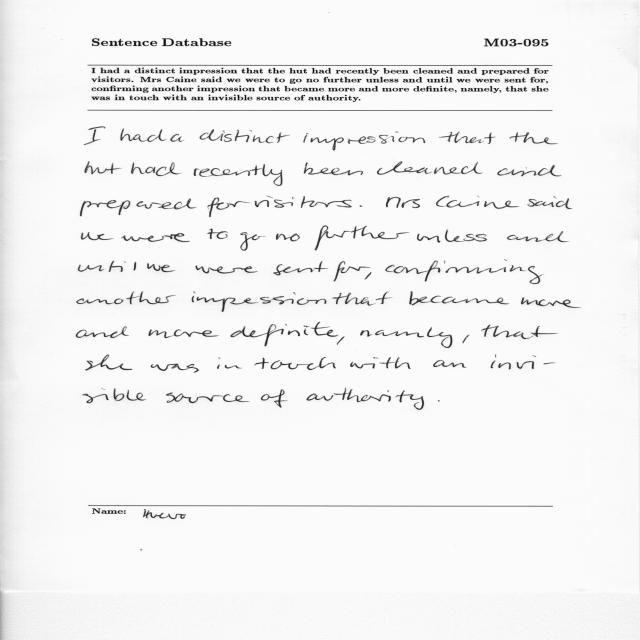word: (385, 260, 543, 285), (192, 291, 327, 312), (307, 388, 424, 410), (231, 323, 338, 347), (315, 226, 409, 251), (304, 132, 426, 151), (81, 199, 197, 217), (194, 164, 283, 186), (360, 327, 452, 348), (377, 161, 483, 175), (409, 292, 510, 306), (77, 292, 176, 305), (199, 129, 290, 143), (255, 196, 352, 208), (436, 196, 519, 209), (481, 325, 558, 339), (255, 357, 336, 370), (491, 355, 556, 370), (83, 388, 146, 403), (417, 230, 487, 243), (332, 292, 392, 306), (166, 393, 250, 403), (207, 198, 250, 217), (273, 261, 328, 275), (304, 163, 363, 176), (86, 355, 132, 371), (350, 357, 411, 369), (334, 262, 370, 282), (497, 165, 562, 176), (131, 162, 182, 176), (79, 260, 137, 272), (507, 231, 569, 242), (439, 132, 495, 144), (521, 297, 581, 308), (120, 128, 167, 142), (148, 329, 219, 338), (76, 326, 129, 338), (121, 233, 190, 242), (510, 132, 558, 144), (528, 196, 572, 209), (195, 266, 258, 274), (240, 232, 266, 251), (85, 162, 122, 175), (261, 390, 287, 408), (151, 364, 199, 373), (84, 127, 105, 145), (386, 197, 420, 208), (217, 357, 242, 369), (433, 360, 467, 368), (81, 232, 114, 240), (147, 263, 175, 272), (207, 229, 228, 239), (276, 234, 300, 242), (170, 134, 183, 142), (337, 336, 345, 345), (463, 335, 470, 343), (365, 272, 371, 279), (360, 205, 363, 207), (438, 400, 440, 402)
